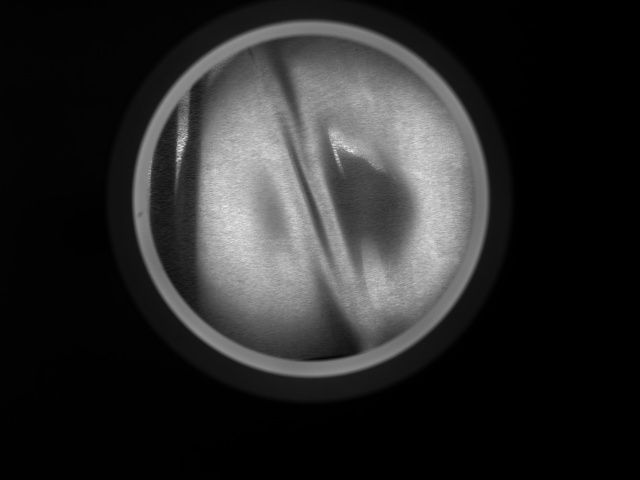zhe_zhou: (200, 60, 426, 336)
